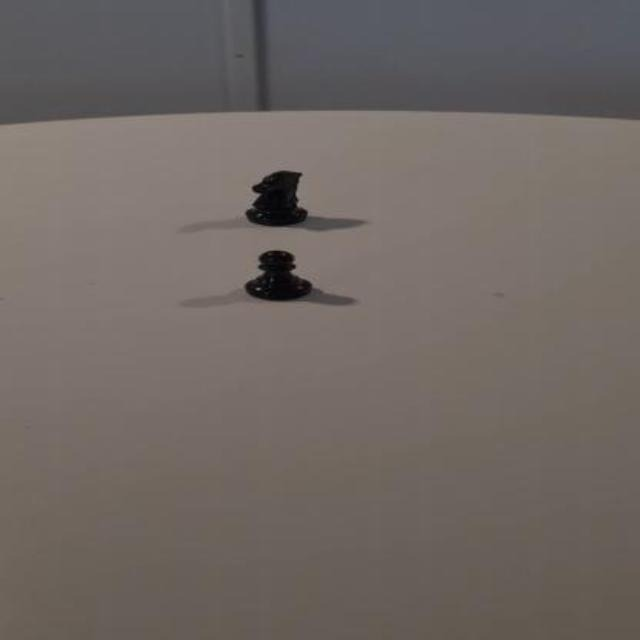black-knight: (241, 172, 308, 224)
black-pawn: (243, 249, 309, 301)
